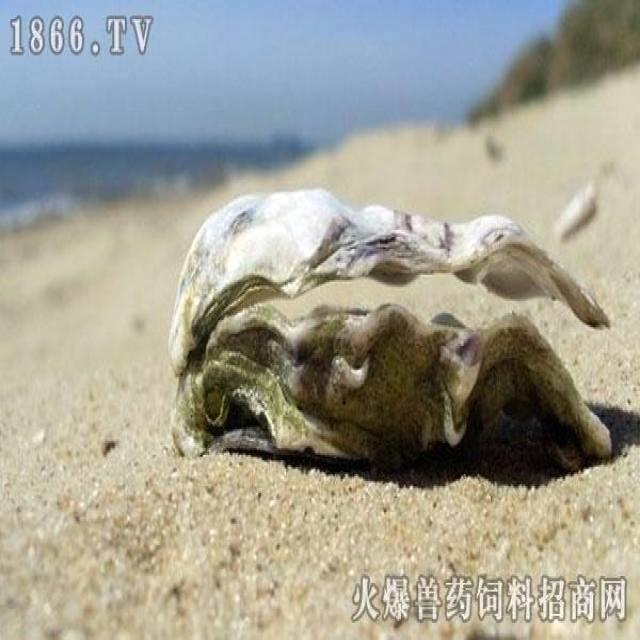Oyster-Open: (168, 184, 616, 474)
